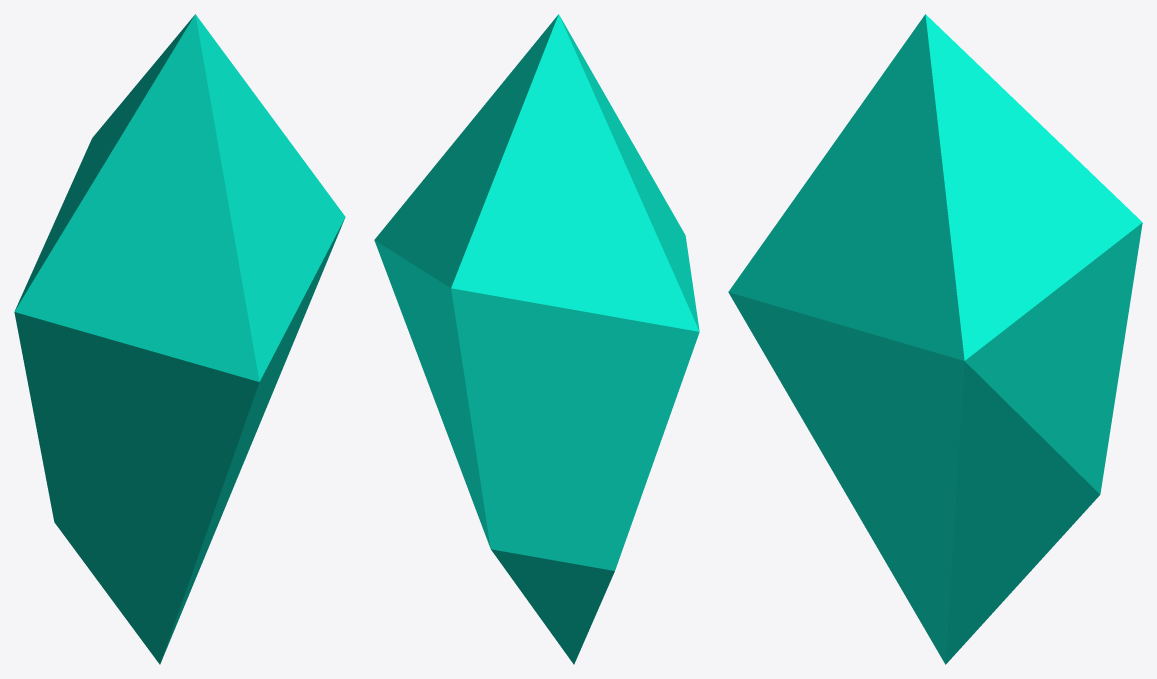
Rendered from Crystal-Item05.fbx.
3 renders of one model, left to right at view 1: azimuth 30°, elevation 25°; view 2: azimuth 150°, elevation 25°; view 3: azimuth 270°, elevation 25°, orthographic. The views are drawn at different scales.
Visible parts, largest first — view 1: Crystal-Item05; view 2: Crystal-Item05; view 3: Crystal-Item05.
Boxes of the visible parts, x1,y1,x2,y2 form: Crystal-Item05: (14, 14, 345, 664); Crystal-Item05: (374, 14, 699, 664); Crystal-Item05: (728, 14, 1142, 664).
Size of the model in its own units: 42.75 by 80.23 by 45.41.
